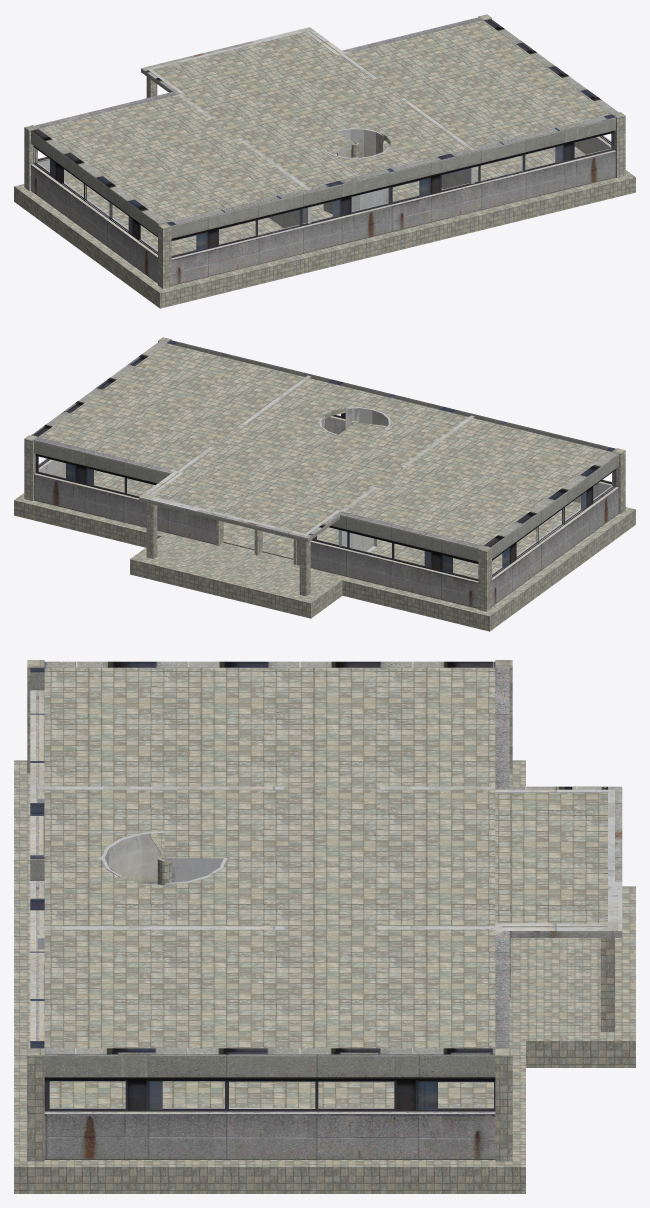
File: BagSS05base_500.fbx
3 renders of one model, top to bottom at view 1: azimuth 30°, elevation 25°; view 2: azimuth 150°, elevation 25°; view 3: azimuth 270°, elevation 25°, orthographic. The views are drawn at different scales.
Parts seen in each view (by area): view 1: baseCeiling500, baseMain500, baseFloor500, baseWalls500; view 2: baseCeiling500, baseMain500, baseFloor500, baseWalls500; view 3: baseCeiling500, baseMain500, baseFloor500, baseWalls500.
Boxes of the visible parts, bbox=[...] form: baseCeiling500: bbox=[39, 20, 611, 255]; baseMain500: bbox=[31, 17, 618, 285]; baseFloor500: bbox=[14, 14, 635, 308]; baseWalls500: bbox=[31, 20, 615, 259]; baseCeiling500: bbox=[38, 343, 610, 578]; baseMain500: bbox=[31, 340, 618, 608]; baseFloor500: bbox=[14, 337, 635, 631]; baseWalls500: bbox=[34, 343, 618, 582]; baseCeiling500: bbox=[44, 668, 607, 1107]; baseMain500: bbox=[30, 661, 622, 1159]; baseFloor500: bbox=[14, 660, 635, 1193]; baseWalls500: bbox=[30, 667, 622, 1113].
Bounding box in the file's own units: 43.75 × 6.65 × 28.28.
